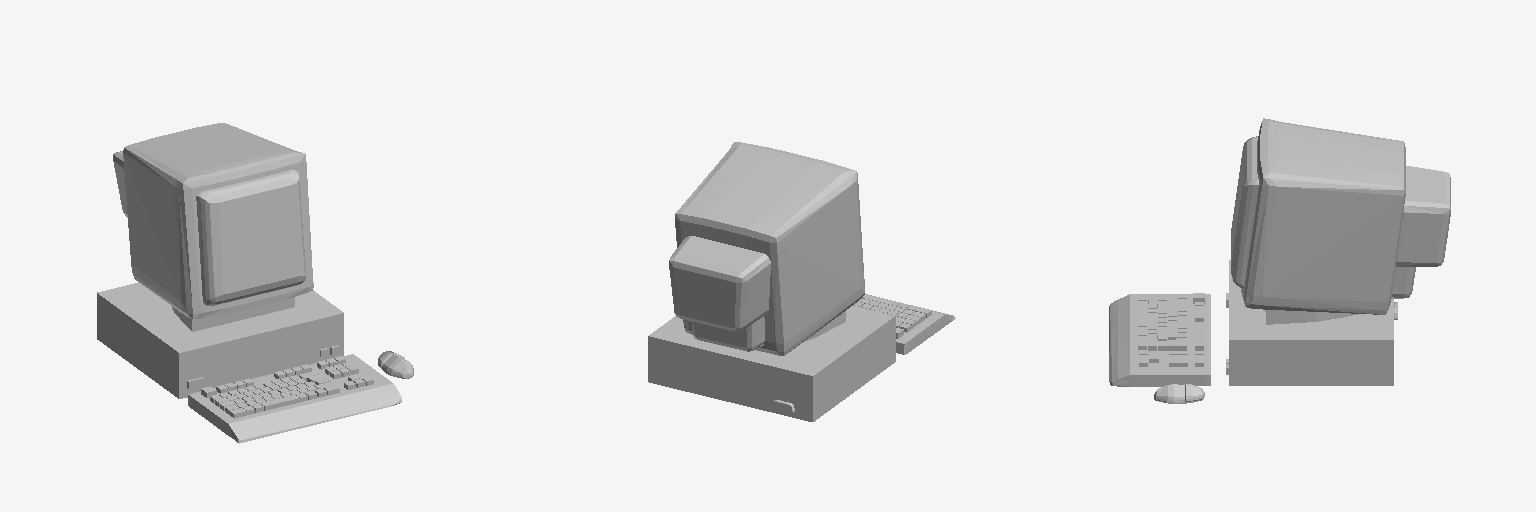
The model's file is computer.obj.
The picture shows the model from 3 angles: view 1: azimuth 30°, elevation 25°; view 2: azimuth 150°, elevation 25°; view 3: azimuth 270°, elevation 25°; orthographic projection.
Visible parts, largest first — view 1: Group14191, Group14311, Group14251, Group24582, Group40342, Group14281; view 2: Group14191, Group14311, Group14221, Group14236, Group24582; view 3: Group14191, Group14311, Group24582, Group14221, Group14251, Group40342, Group14281, Group14236.
Boxes of the visible parts, box(x1,y1,x2,y2) form: Group14191: box(123, 123, 313, 319); Group14311: box(97, 282, 343, 398); Group14251: box(196, 169, 305, 305); Group24582: box(188, 354, 401, 443); Group40342: box(172, 297, 294, 331); Group14281: box(378, 351, 413, 378); Group14191: box(675, 142, 864, 355); Group14311: box(648, 305, 895, 421); Group14221: box(669, 236, 770, 331); Group14236: box(691, 316, 764, 351); Group24582: box(865, 294, 955, 354); Group14191: box(1241, 118, 1405, 314); Group14311: box(1229, 260, 1393, 385); Group24582: box(1109, 294, 1210, 386); Group14221: box(1396, 166, 1450, 266); Group14251: box(1231, 136, 1258, 289); Group40342: box(1265, 310, 1357, 324); Group14281: box(1154, 384, 1204, 403); Group14236: box(1392, 267, 1415, 298).
Size of the model in its own units: 3.57 by 3.32 by 5.16.